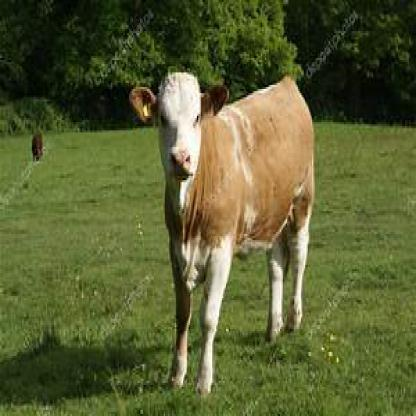cow: (129, 70, 315, 394)
